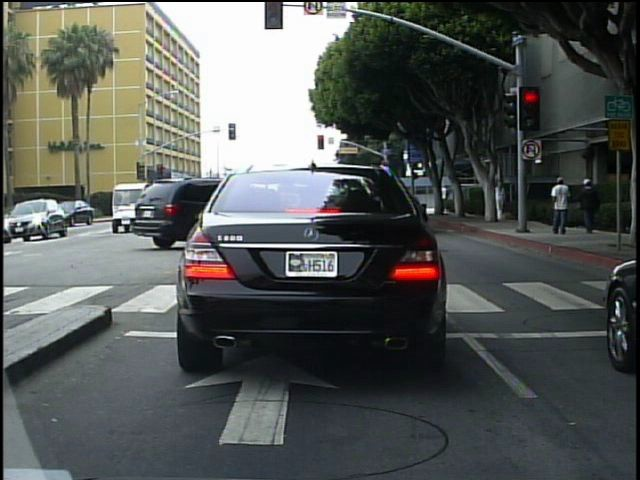person: (581, 170, 606, 240), (550, 173, 576, 235), (495, 179, 509, 223), (437, 179, 451, 215)
